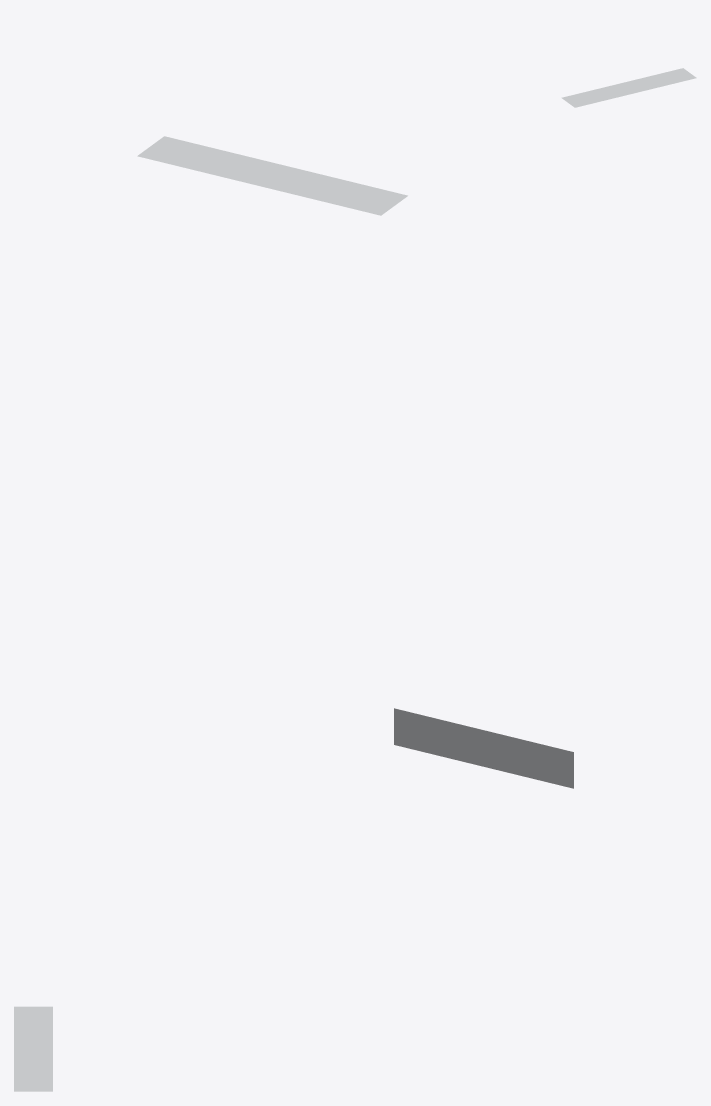
The model's file is kd_stage_135ded_4_150_bounded.glb.
3 renders of one model, top to bottom at view 1: azimuth 30°, elevation 25°; view 2: azimuth 150°, elevation 25°; view 3: azimuth 270°, elevation 25°, orthographic. The views are drawn at different scales.
Parts seen in each view (by area): view 1: kd_stage_135ded_4_150_bounded; view 2: kd_stage_135ded_4_150_bounded; view 3: kd_stage_135ded_4_150_bounded.
Boxes of the visible parts, bbox=[...] form: kd_stage_135ded_4_150_bounded: bbox=[561, 68, 696, 107]; kd_stage_135ded_4_150_bounded: bbox=[137, 136, 573, 788]; kd_stage_135ded_4_150_bounded: bbox=[14, 1006, 52, 1091].
Bounding box in the file's own units: 0.5045 × 0.0467 × 0.4707.
1 material, 1 textured.
